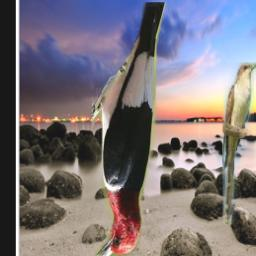Cuckoo: (222, 63, 256, 225)
Woodpecker: (91, 2, 167, 256)
